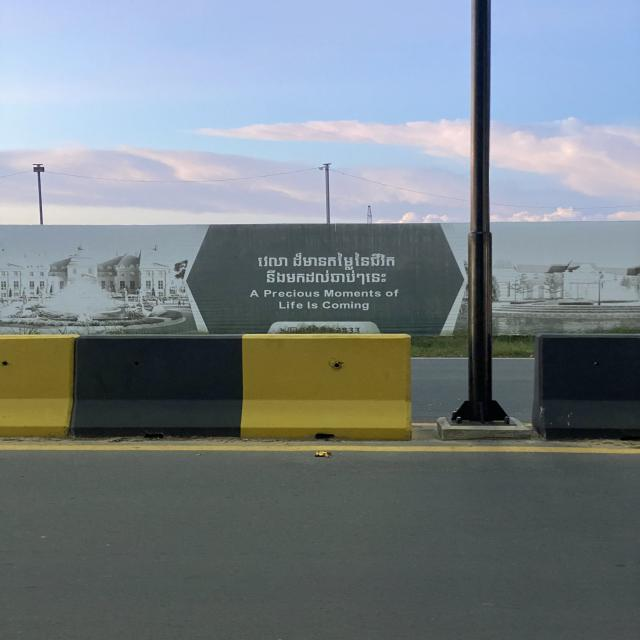1: (252, 252, 399, 271)
Yolov11kh: (263, 269, 391, 287)
